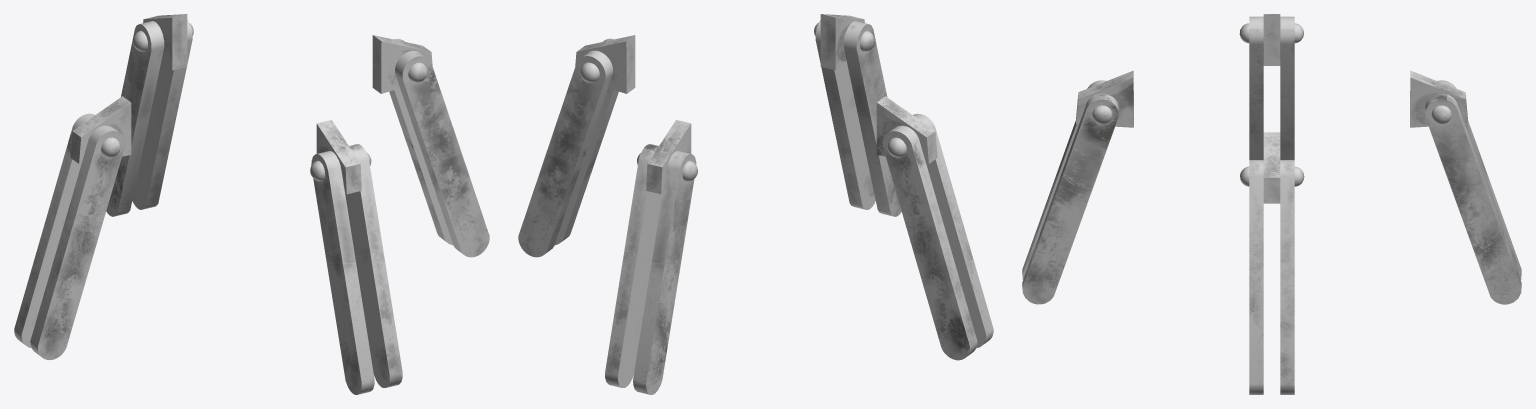
Rendered from finger_base.fbx.
3 views of the same model, side by side, from view 1: azimuth 30°, elevation 25°; view 2: azimuth 150°, elevation 25°; view 3: azimuth 270°, elevation 25° (orthographic). The views are drawn at different scales.
Visible parts, largest first — view 1: finger_base; view 2: finger_base; view 3: finger_base.
Part boxes in pixels (<box>): finger_base: <box>14,14,489,394</box>; finger_base: <box>518,14,993,394</box>; finger_base: <box>1022,14,1521,394</box>.
Size of the model in its own units: 137 by 66.81 by 137.
